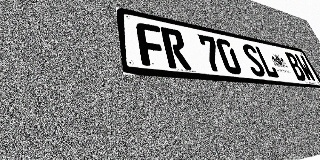0: (214, 38, 243, 75)
7: (196, 34, 226, 73)
B: (284, 52, 308, 81)
F: (135, 22, 168, 68)
L: (254, 46, 280, 78)
R: (160, 27, 192, 70)
S: (240, 43, 267, 77)
W: (294, 54, 317, 82)
